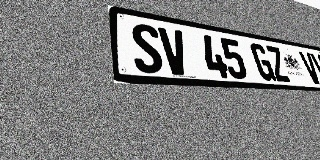4: (199, 34, 230, 78)
5: (219, 37, 249, 79)
G: (249, 42, 277, 81)
S: (130, 22, 165, 74)
V: (158, 27, 191, 76), (298, 51, 320, 84), (310, 53, 320, 85)
Z: (264, 45, 291, 82)
